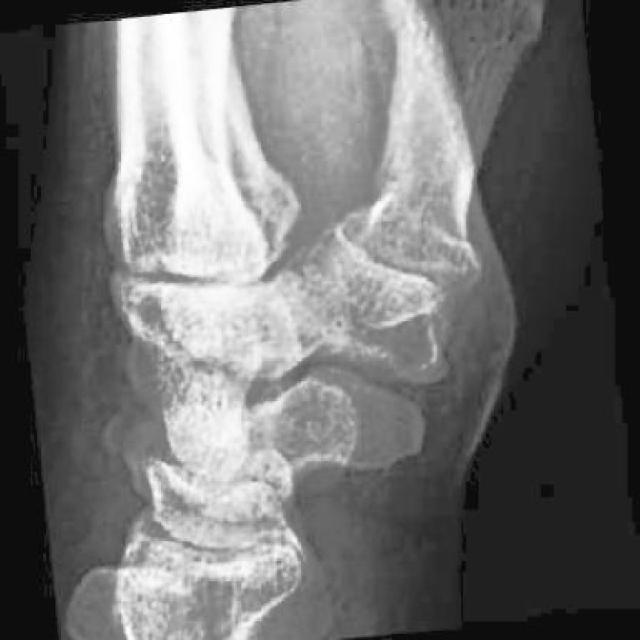Fracture: (102, 392, 162, 471)
